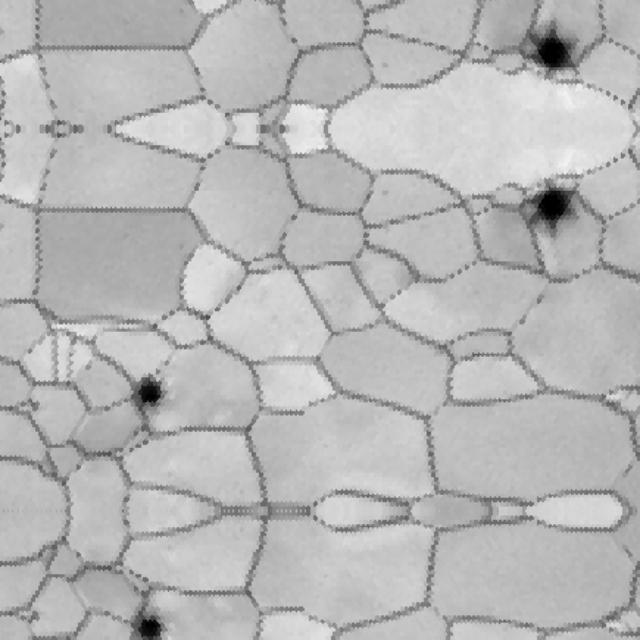good_void: (522, 179, 582, 241), (522, 18, 582, 80), (131, 371, 170, 421), (131, 603, 170, 640), (27, 398, 45, 417), (27, 607, 45, 626), (379, 188, 390, 198), (379, 61, 390, 71)
